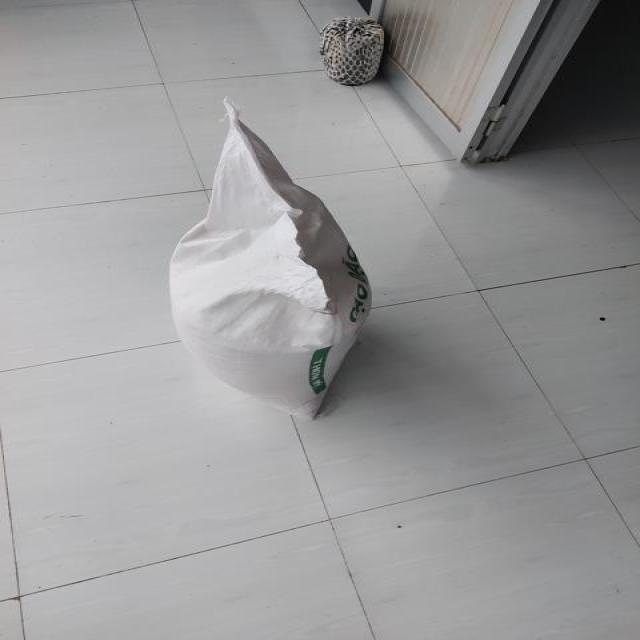gunny_bag: (171, 98, 369, 416)
